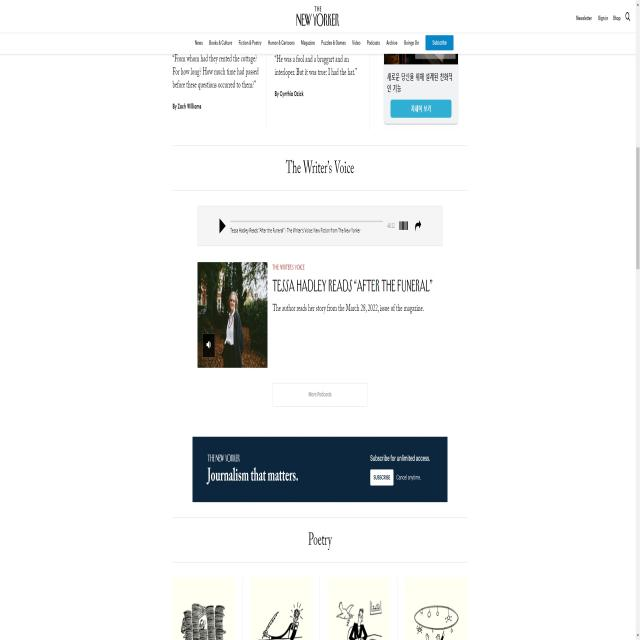content: (271, 296, 427, 318)
control-bar: (195, 202, 441, 249)
menu-bar: (570, 8, 636, 22)
tab-bar: (185, 30, 456, 51)
